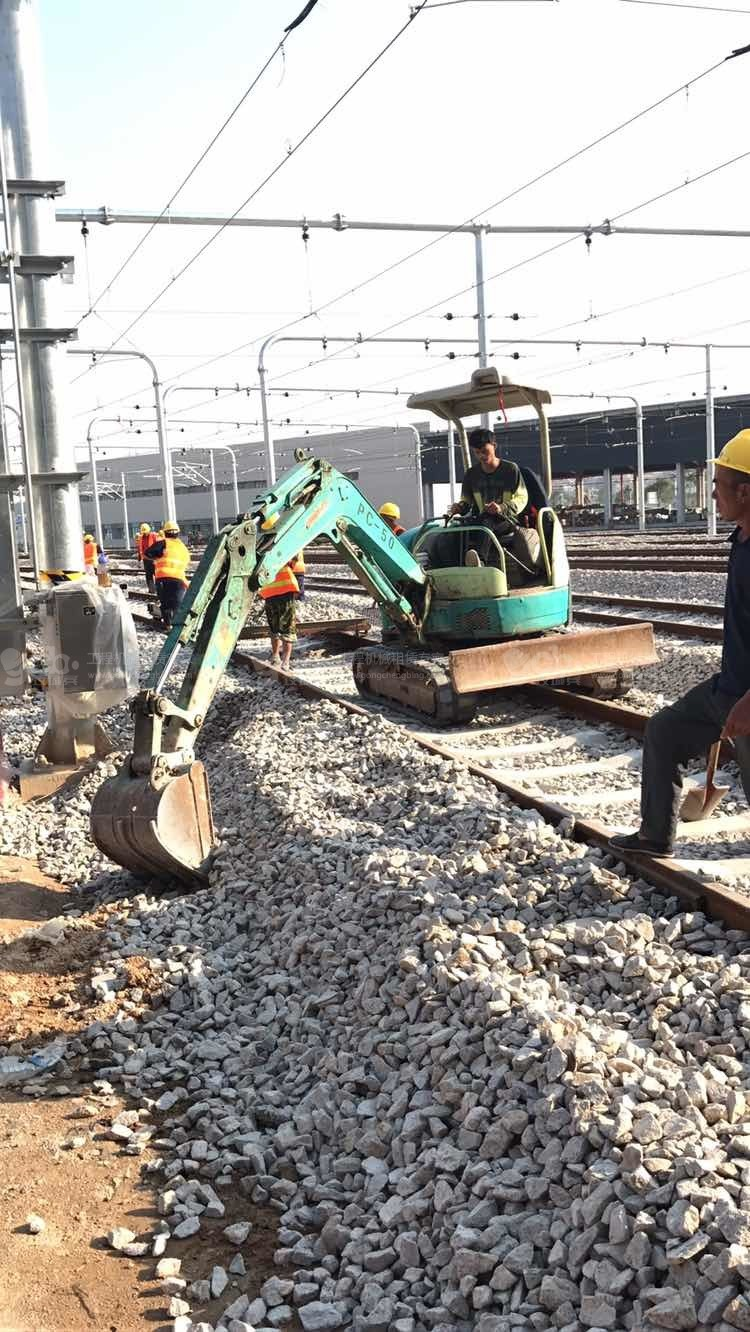excavator: (85, 342, 663, 942)
